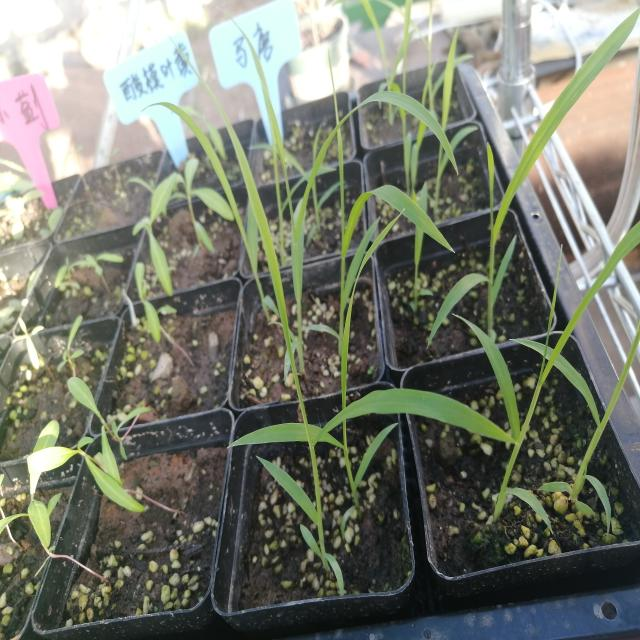crabgrass: (213, 158, 395, 532), (481, 27, 610, 294), (489, 217, 604, 503)
